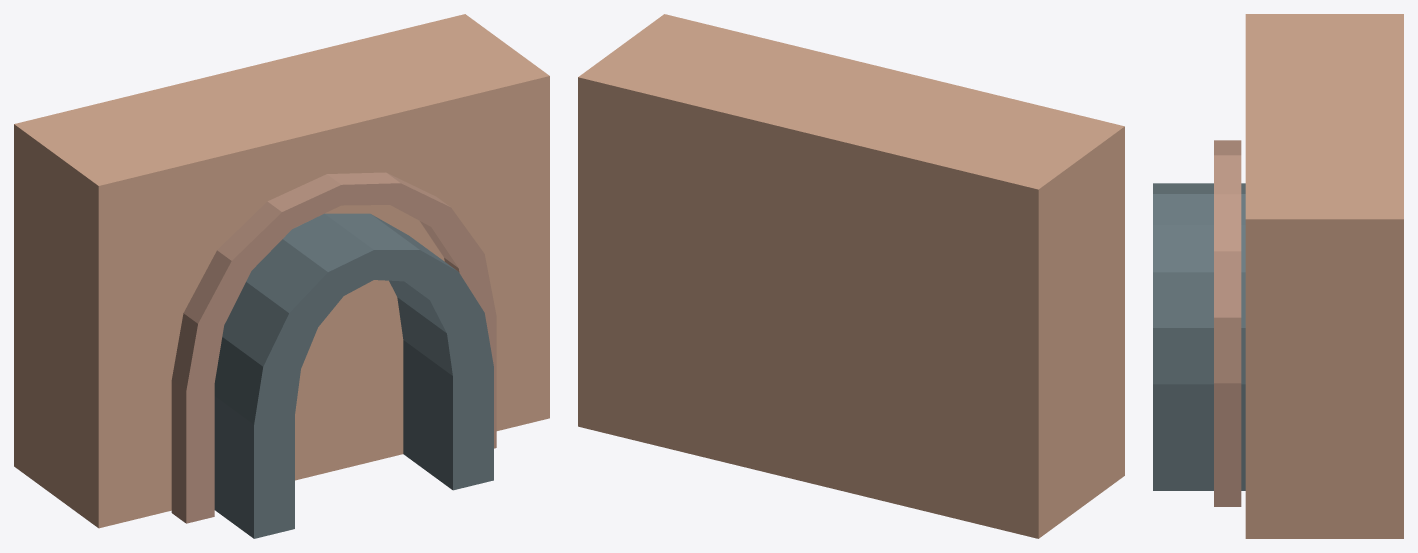
The model's file is rail_tunnel_mouth_far-DiKU0IiC.glb.
3 views of the same model, side by side, from view 1: azimuth 30°, elevation 25°; view 2: azimuth 150°, elevation 25°; view 3: azimuth 270°, elevation 25° (orthographic). The views are drawn at different scales.
Parts seen in each view (by area): view 1: rail_tunnel_mouth_far; view 2: rail_tunnel_mouth_far; view 3: rail_tunnel_mouth_far.
Part boxes in pixels (x1,y1,x2,y2): rail_tunnel_mouth_far: (14, 14, 549, 538); rail_tunnel_mouth_far: (578, 14, 1124, 538); rail_tunnel_mouth_far: (1153, 14, 1403, 538).
Bounding box in the file's own units: 16 × 11.6 × 8.25.
